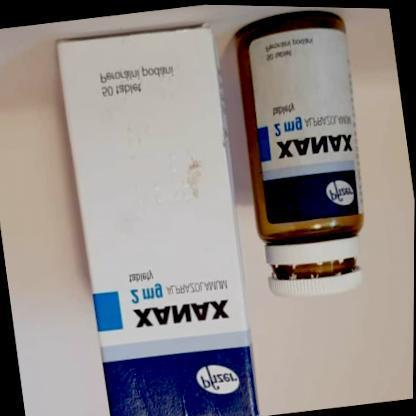jar: (235, 9, 371, 301)
